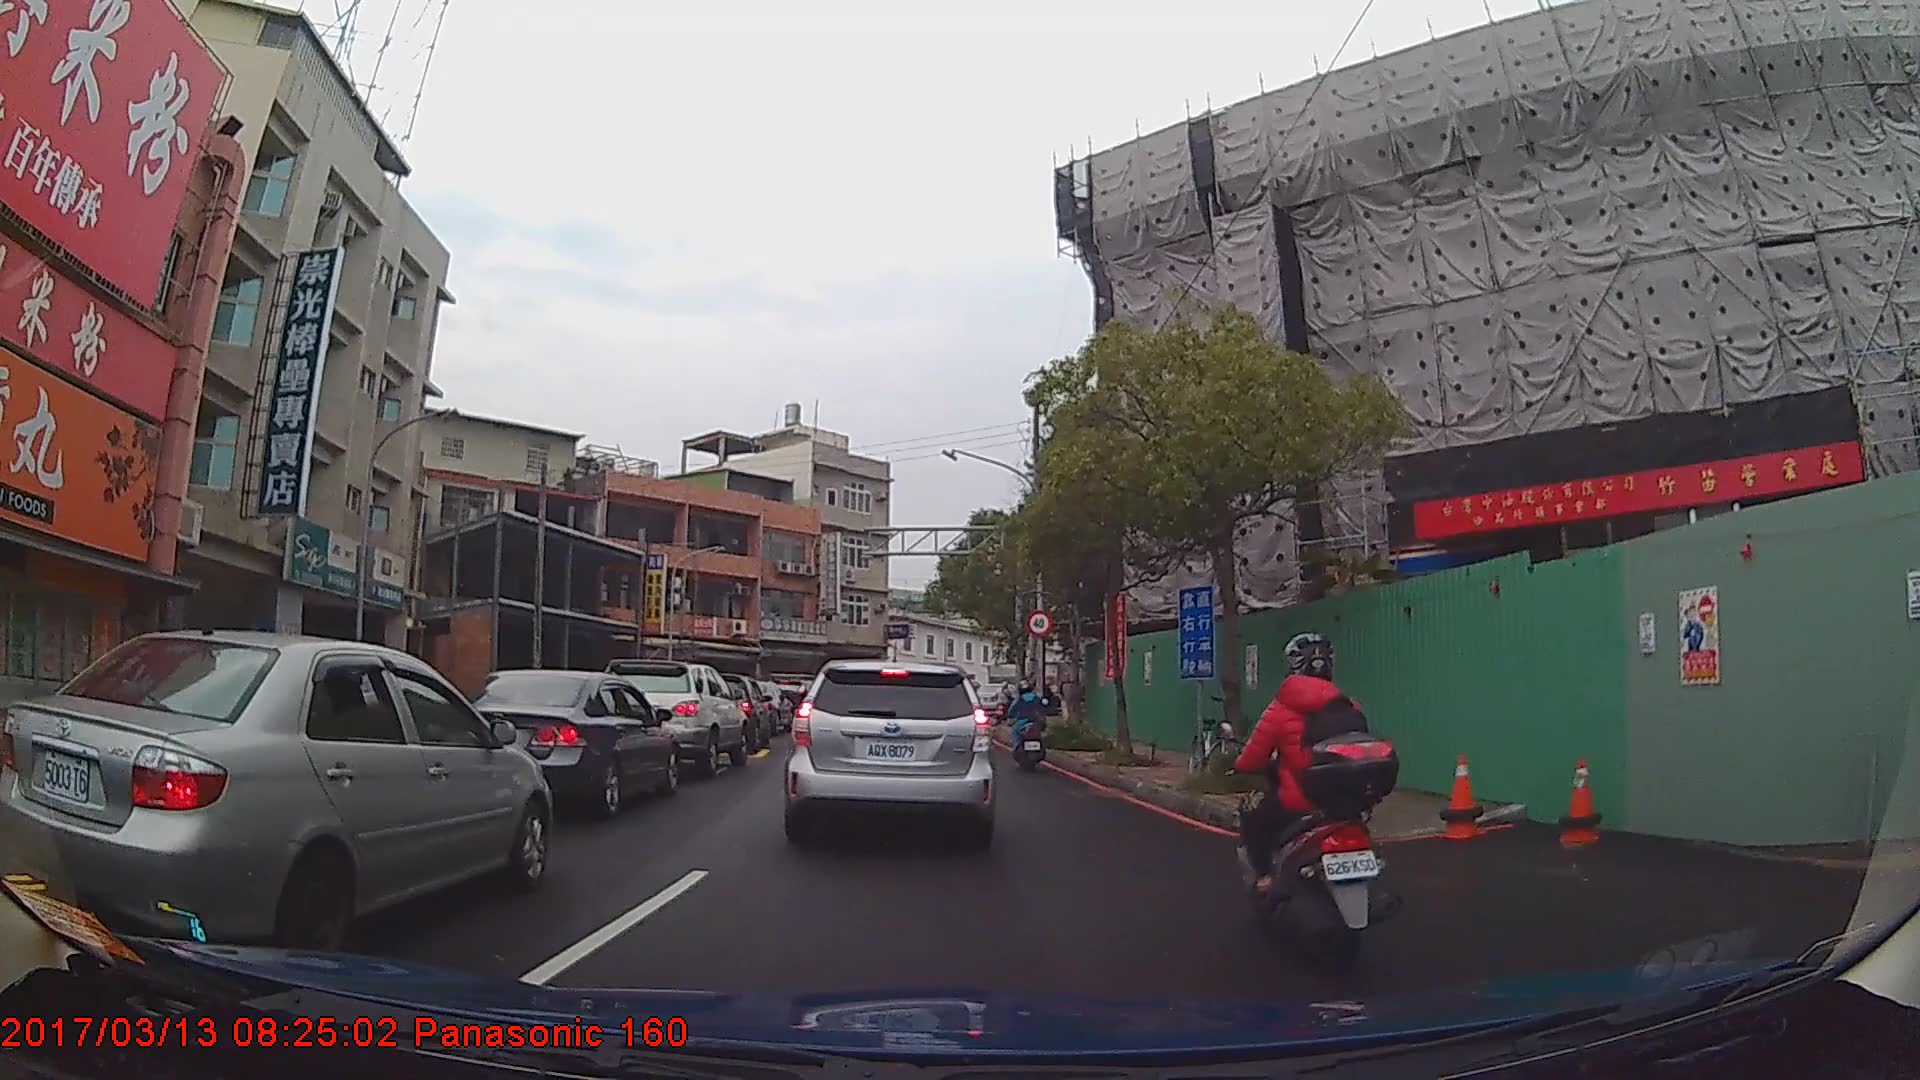rider: (1225, 632, 1416, 974), (1003, 682, 1050, 777)
vehicle: (0, 628, 552, 967), (780, 659, 996, 850), (432, 669, 680, 821), (597, 656, 747, 777)
